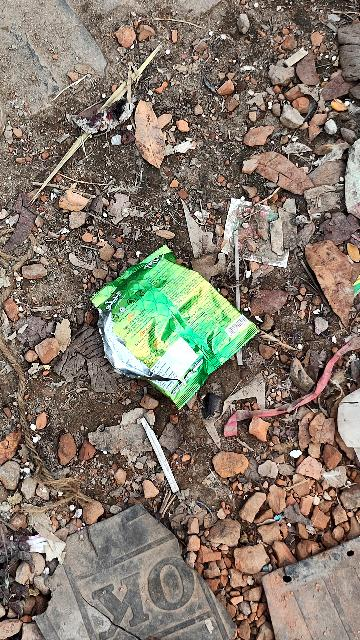packet: (72, 218, 274, 418)
